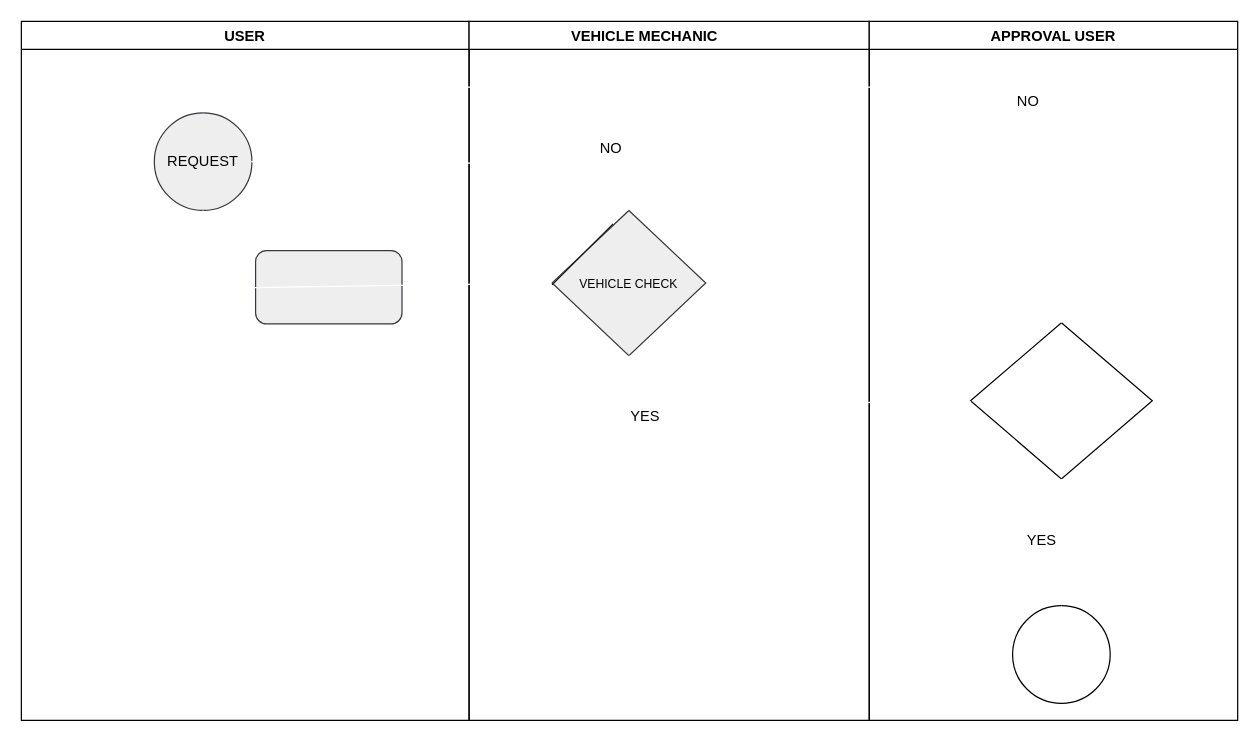
This 1259x742 diagram has some shape labels left out. The centre of each missing label's shape, as x and y in pixels:
"APPROVED" belongs at pixel 1060 654.
"CHOOSE VEHICLE , DATE & DESCRIPTION" belongs at pixel 328 286.
"REVIEW REQUEST" belongs at pixel 1060 400.
